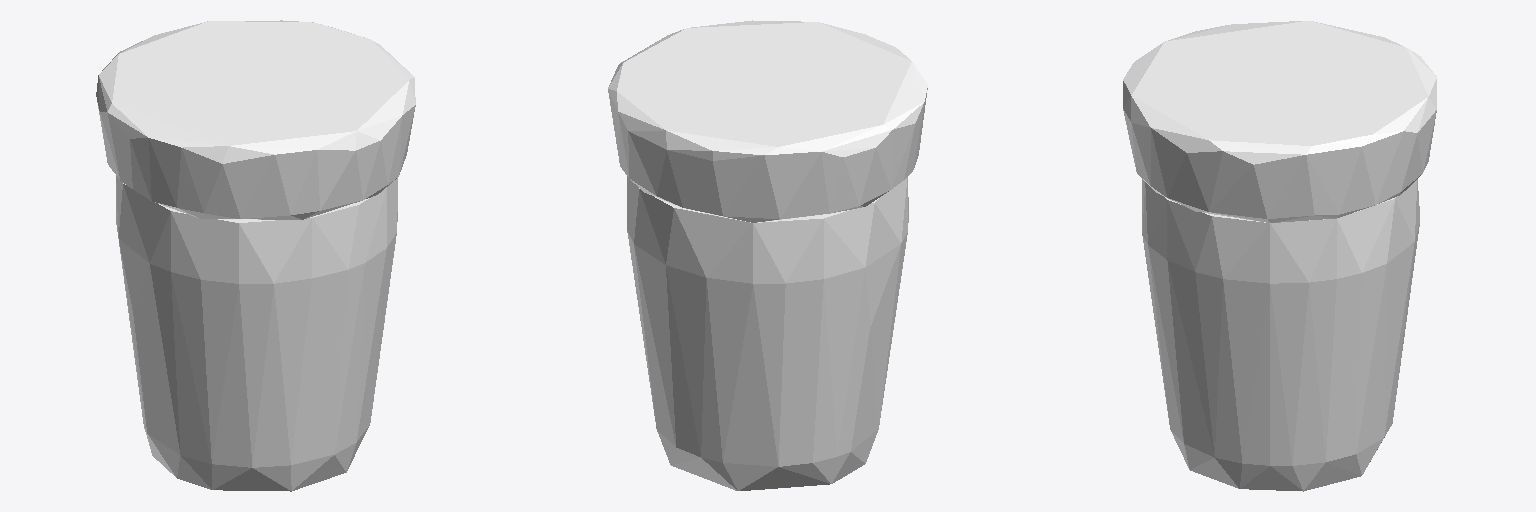
robot.urdf — s0_fi1_fu1_b0_l0_f0.urdf:
<?xml version="1.0" ?>
<robot name="s0_fi1_fu1_b0_l0_f0.urdf">
  <link name="baseLink">
    <contact>
      <lateral_friction value="1.0"/>
      <spinning_friction value="0.001"/>
      <rolling_friction value="0.001"/>
      <contact_cfm value="0.0"/>
      <contact_erp value="1.0"/>
    </contact>
    <inertial>
      <origin rpy="0 0 0" xyz="0.0 0 0.0"/>
       <mass value=".001"/>
       <inertia ixx="1" ixy="0" ixz="0" iyy="1" iyz="0" izz="1"/>
    </inertial>
    <visual>
      <origin rpy="0 0 0" xyz="0 0 0"/>
      <geometry>
				<mesh filename="s0_fi1_fu1_b0_l0_f0_vhacd.obj" scale="1.0 1.0 1.0"/>
      </geometry>
       <material name="white">
        <color rgba="1 1 1 1"/>
      </material>
    </visual>
    <collision>
      <origin rpy="0 0 0" xyz="0 0 0"/>
      <geometry>
	 	<mesh filename="s0_fi1_fu1_b0_l0_f0_vhacd.obj" scale="1.0 1.0 1.0"/>
      </geometry>
    </collision>
  </link>
</robot>

--- Facts derived from the render (not from the file) ---
3 views of the same robot in one strip: view 1: azimuth 30°, elevation 25°; view 2: azimuth 150°, elevation 25°; view 3: azimuth 270°, elevation 25° (orthographic).
Model s0_fi1_fu1_b0_l0_f0.urdf with 1 links and 0 joints (none), rooted at baseLink, posed all joints at 0.
Visible links, largest first — view 1: baseLink; view 2: baseLink; view 3: baseLink.
Link boxes in pixels (x1,y1,x2,y2): baseLink: [96, 20, 415, 491]; baseLink: [608, 20, 927, 490]; baseLink: [1123, 21, 1436, 491].
Size in the robot's own frame: 0.0915 by 0.0915 by 0.1174 metres.
1 mesh visuals loaded from 1 distinct referenced files (1 OBJ).